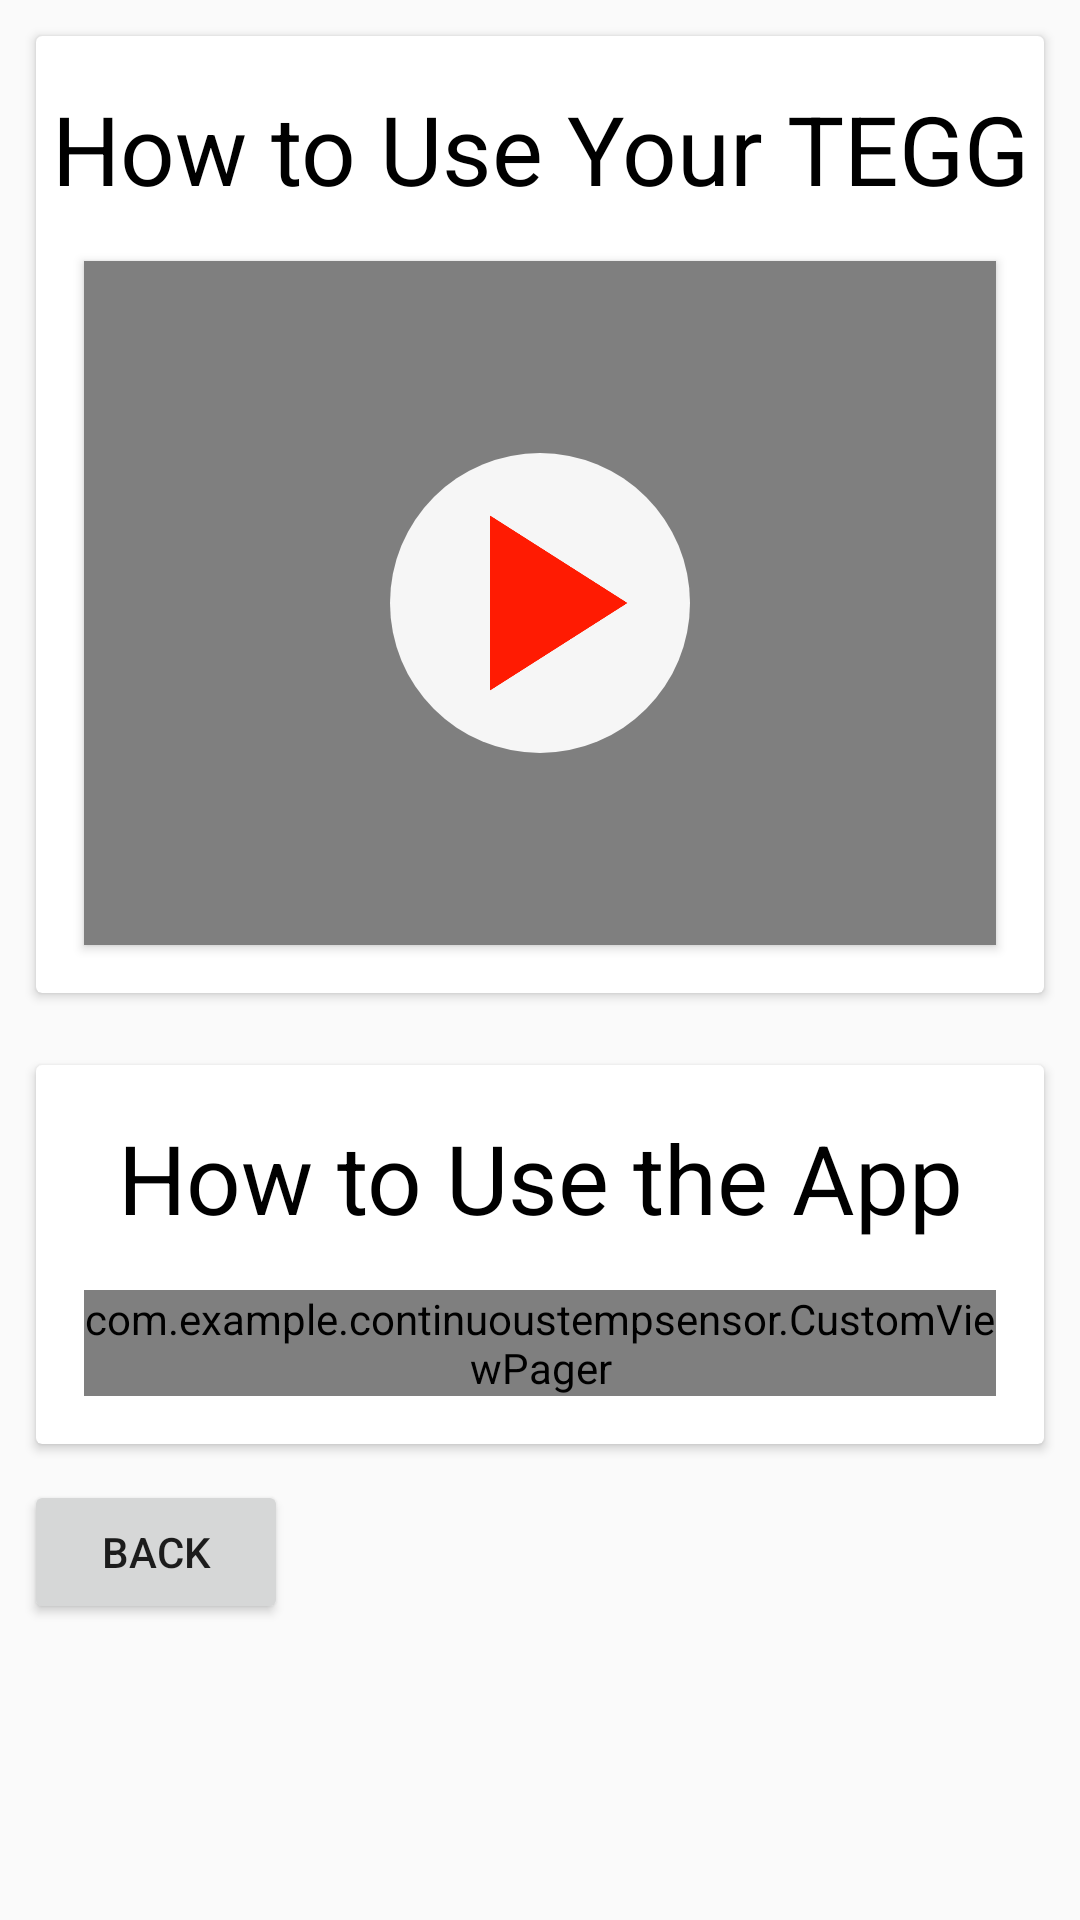

Screen size 1080px x 1920px. Icon name, then its box in pixels as rect(x1, y1, x2, y2):
roundbutton: rect(390, 453, 690, 753)
